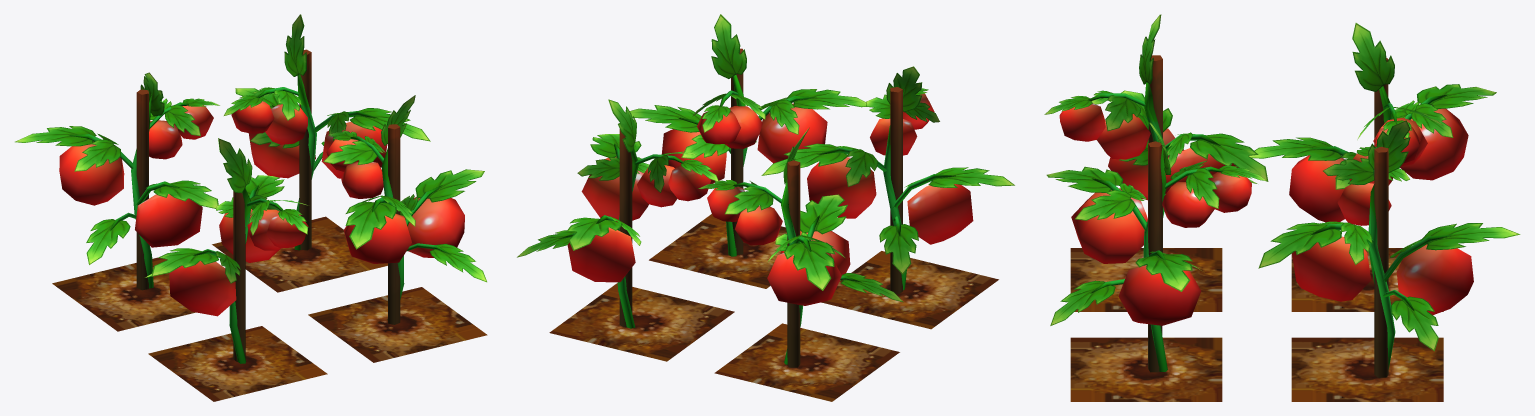
Rendered from tomatoGrown.fbx.
3 renders of one model, left to right at view 1: azimuth 30°, elevation 25°; view 2: azimuth 150°, elevation 25°; view 3: azimuth 270°, elevation 25°, orthographic. The views are drawn at different scales.
Visible parts, largest first — view 1: tomatoGrown; view 2: tomatoGrown; view 3: tomatoGrown.
Boxes of the visible parts, x1=… form: tomatoGrown: x1=15, y1=14, x2=487, y2=401; tomatoGrown: x1=517, y1=14, x2=1014, y2=401; tomatoGrown: x1=1044, y1=14, x2=1520, y2=401.
Bounding box in the file's own units: 11129 × 6757 × 11111.
